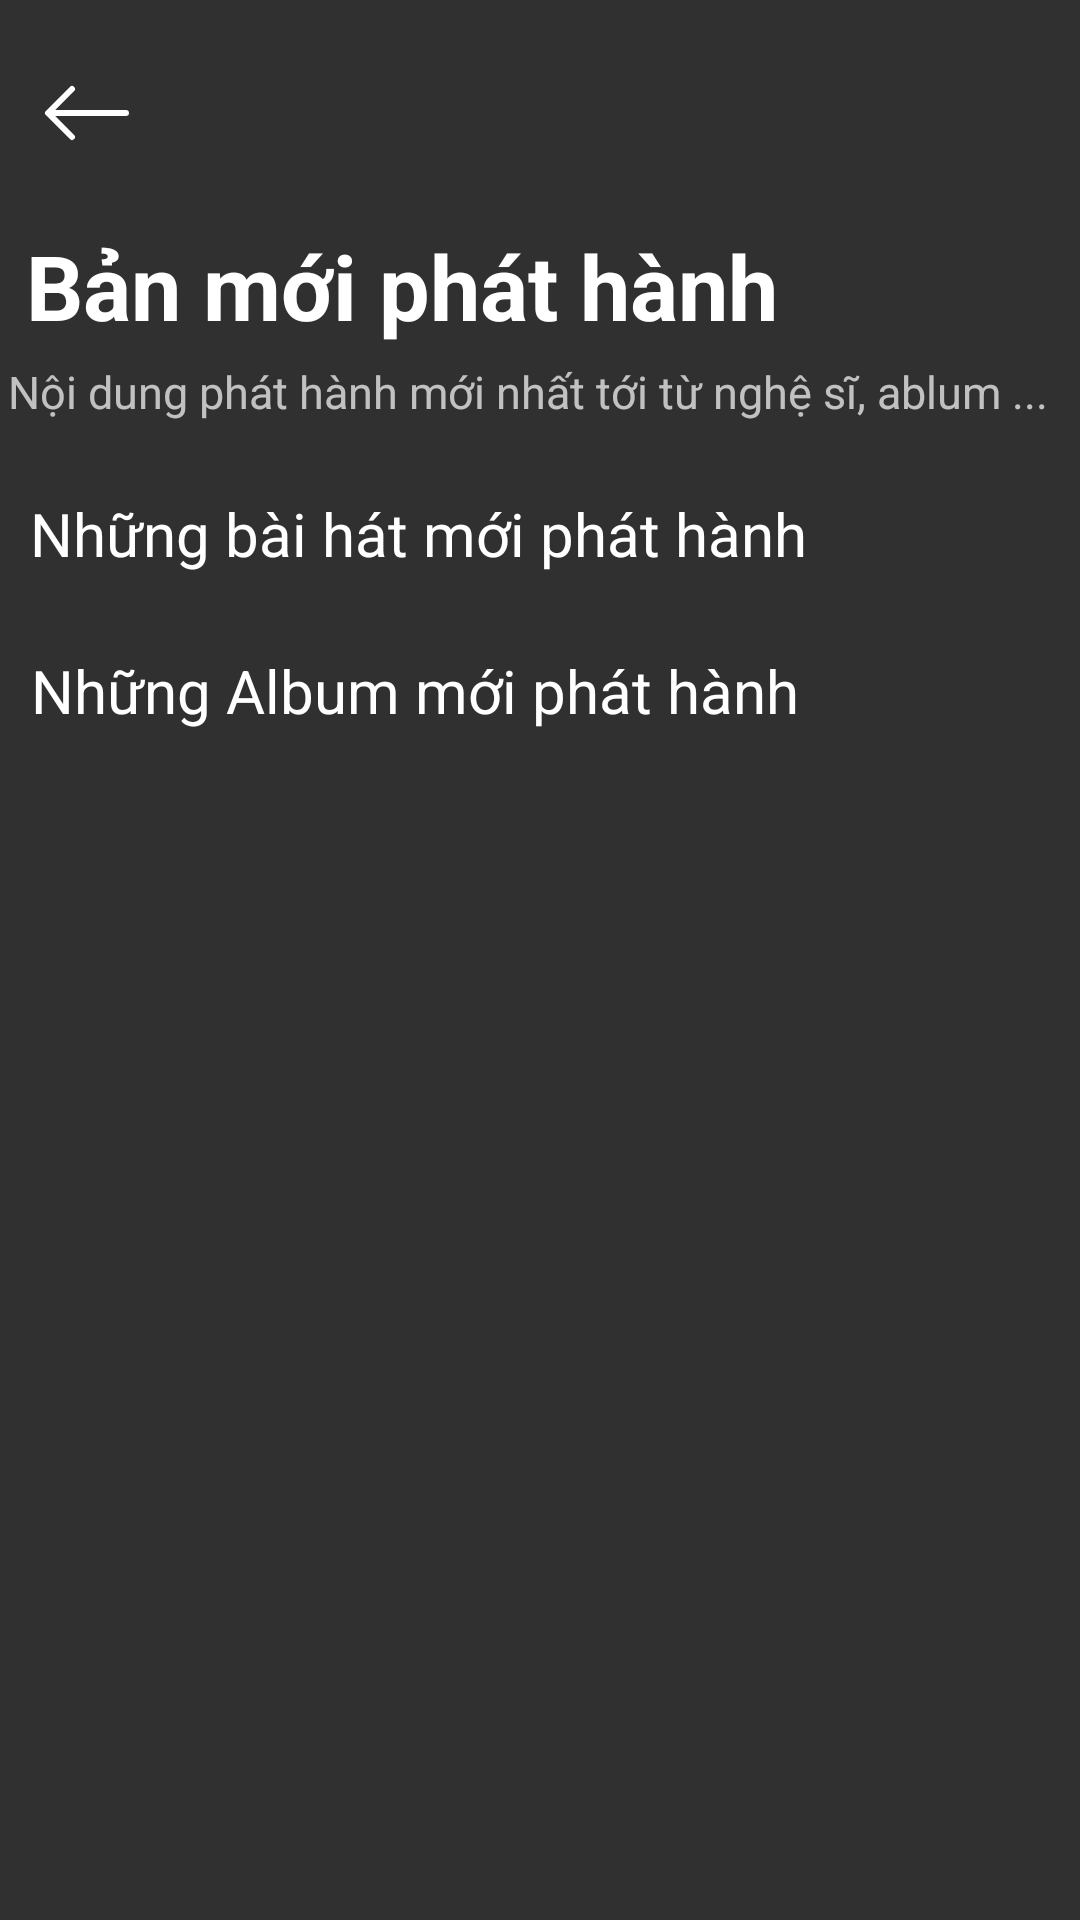

Icons on this 1080*1920 Android screen, each with the point to tap as point (x, y):
arrow left: point (87, 112)
